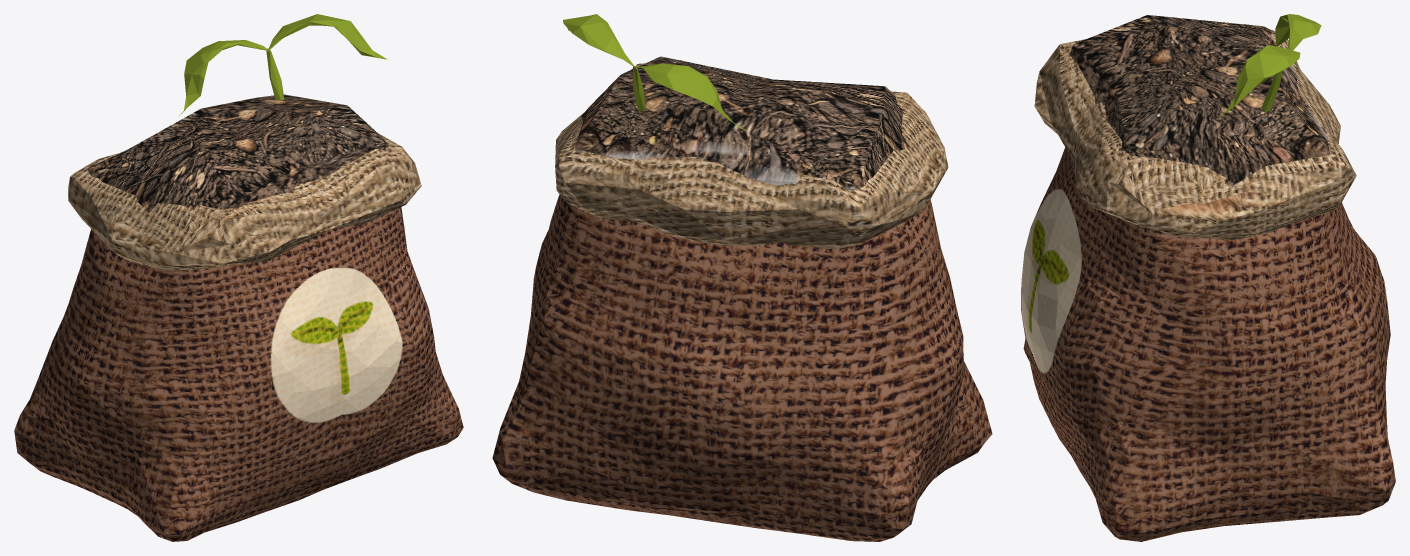
Rendered from Manure.glb.
3 renders of one model, left to right at view 1: azimuth 30°, elevation 25°; view 2: azimuth 150°, elevation 25°; view 3: azimuth 270°, elevation 25°, orthographic. The views are drawn at different scales.
Parts seen in each view (by area): view 1: 상자_상자 1, 상자_1 1, 상자_2, 튜브_튜브_튜브_튜브; view 2: 상자_상자 1, 상자_2, 상자_1 1, 튜브_튜브_튜브_튜브; view 3: 상자_상자 1, 상자_1 1, 상자_2, 튜브_튜브_튜브_튜브.
Boxes of the visible parts, bbox=[...] form: 상자_상자 1: bbox=[14, 207, 463, 541]; 상자_1 1: bbox=[87, 94, 389, 212]; 상자_2: bbox=[68, 133, 421, 270]; 튜브_튜브_튜브_튜브: bbox=[178, 14, 387, 117]; 상자_상자 1: bbox=[492, 194, 992, 541]; 상자_2: bbox=[555, 60, 948, 248]; 상자_1 1: bbox=[575, 56, 909, 191]; 튜브_튜브_튜브_튜브: bbox=[563, 14, 747, 131]; 상자_상자 1: bbox=[1021, 147, 1395, 541]; 상자_1 1: bbox=[1070, 15, 1330, 187]; 상자_2: bbox=[1034, 29, 1356, 240]; 튜브_튜브_튜브_튜브: bbox=[1218, 14, 1321, 118].
Bounding box in the file's own units: 1.18 × 1.23 × 0.8941.
Materials: 5 (5 with a texture image).
